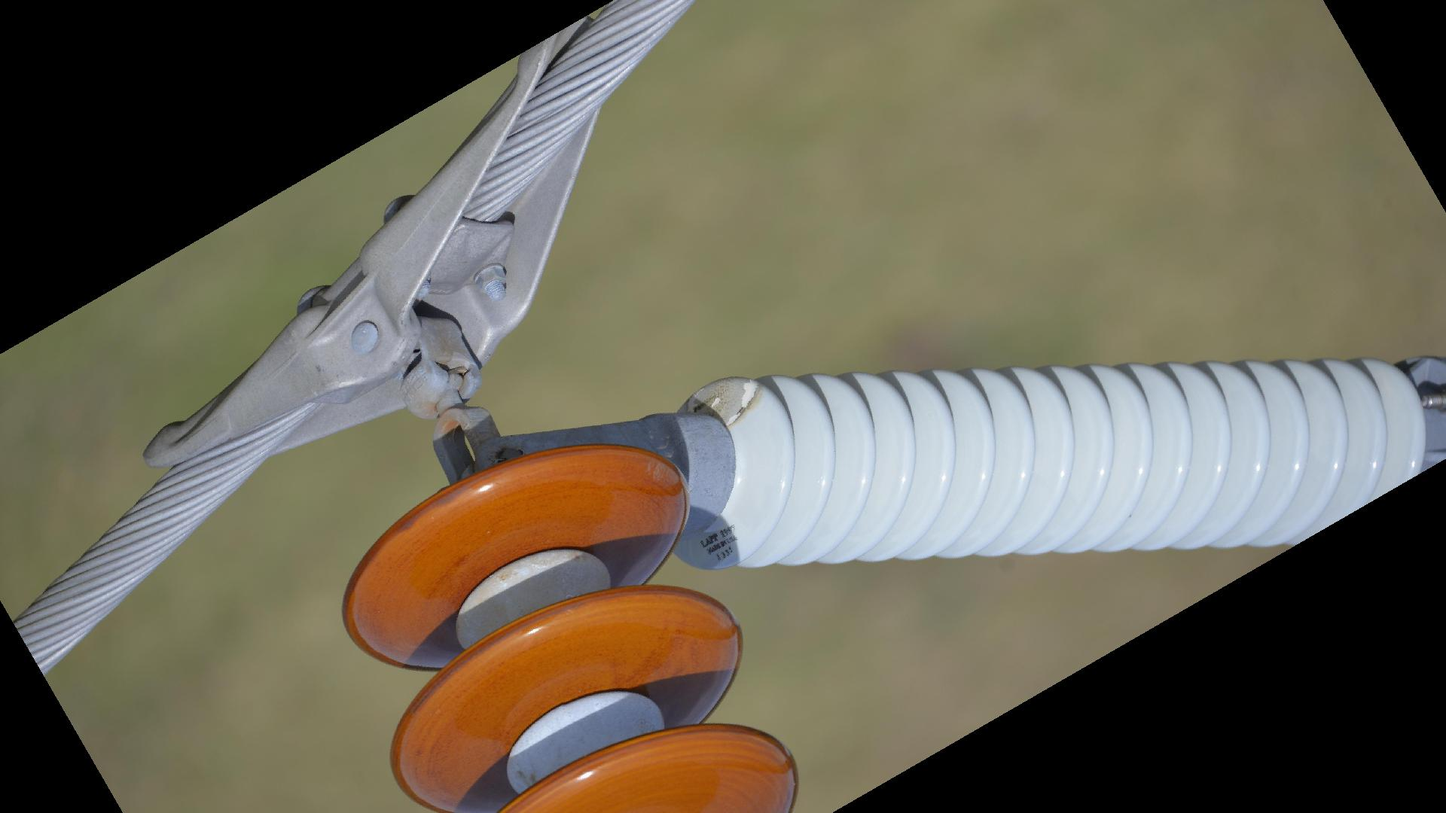insulator: (331, 437, 802, 813), (666, 349, 1432, 572)
insulator_flashover: (676, 373, 766, 425)
